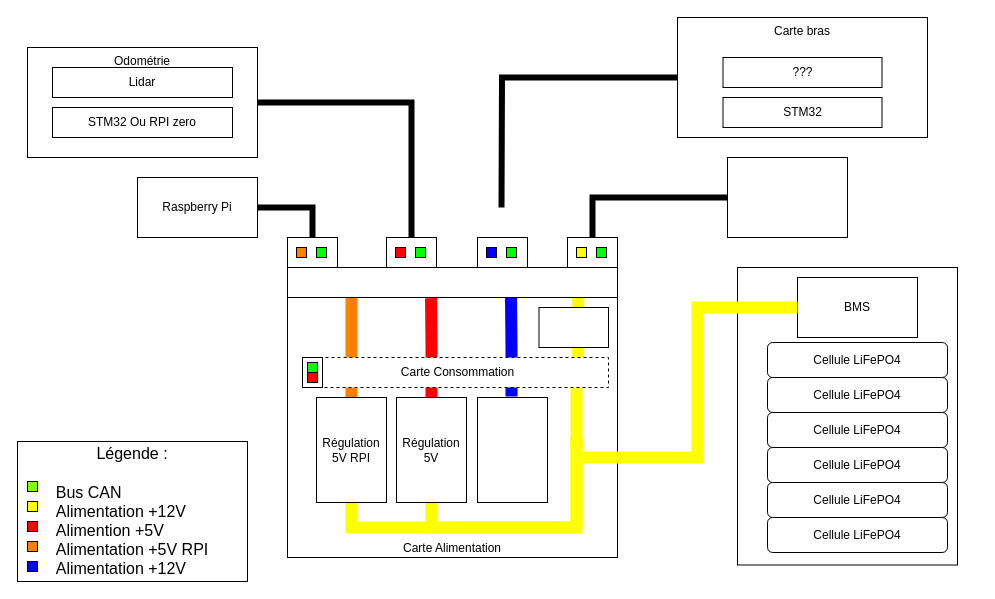
This 995x599 diagram has some shape labels left out. Each missing label, with the centre of its shape:
Base Roulante: the point at 787,197
Connecteurs: the point at 452,282
Relais de coupure: the point at 573,327
Régulation 12V: the point at 512,449
